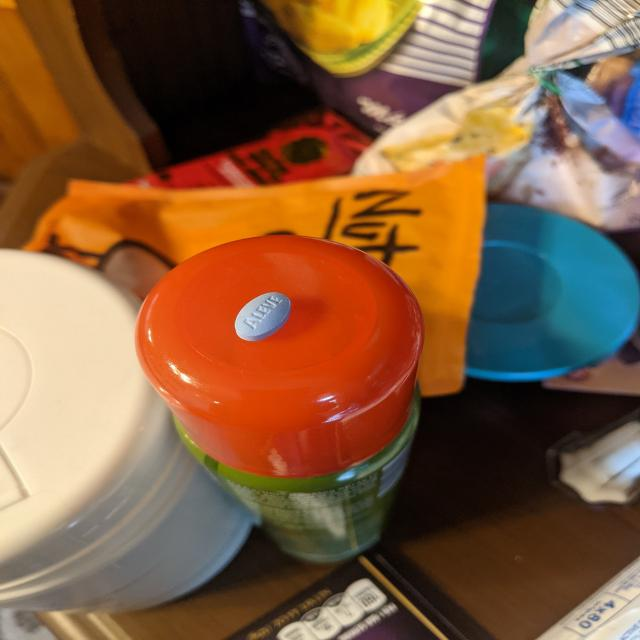non-organic waste: (234, 291, 292, 342)
